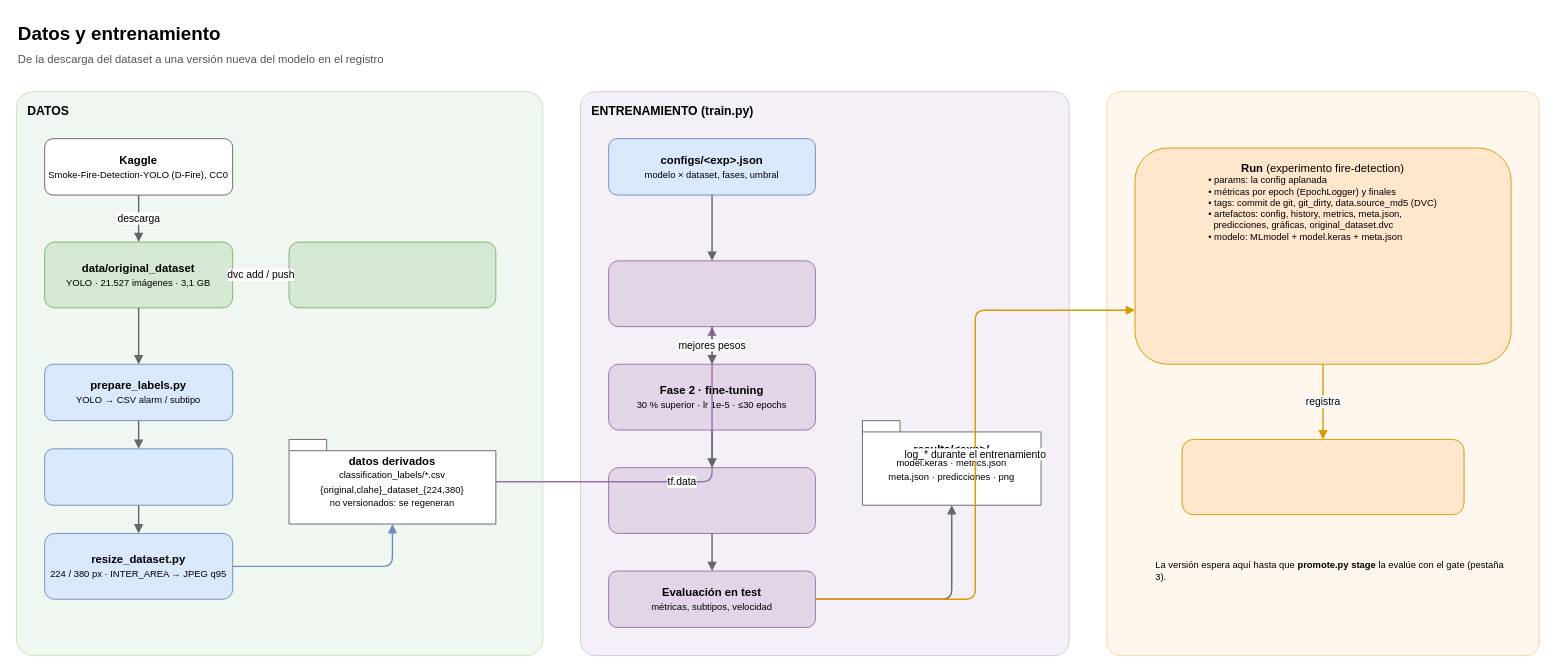
This 1556x672 diagram has some shape labels left out. The box of each missing label's shape, as (x1, y1, x2, y2) in pixels:
clahe_preprocess.py CLAHE canal L → JPEG q95: (44, 448, 233, 505)
DVC → bucket datasets git guarda solo el .dvc (hash): (288, 241, 496, 308)
Fase 1 backbone congelado · lr 1e-3 · ≤10 epochs: (608, 260, 815, 327)
fire-detector vN versión nueva, sin alias (los runs debug no se registran): (1181, 439, 1464, 515)
REGISTRO (MLflow): (1106, 91, 1539, 656)
Umbral en val máx. precisión con recall ≥ 95 %: (608, 467, 815, 533)
